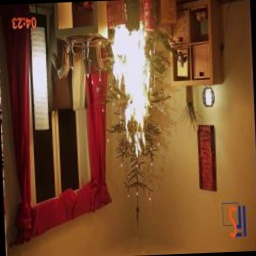fire: (101, 20, 163, 155)
